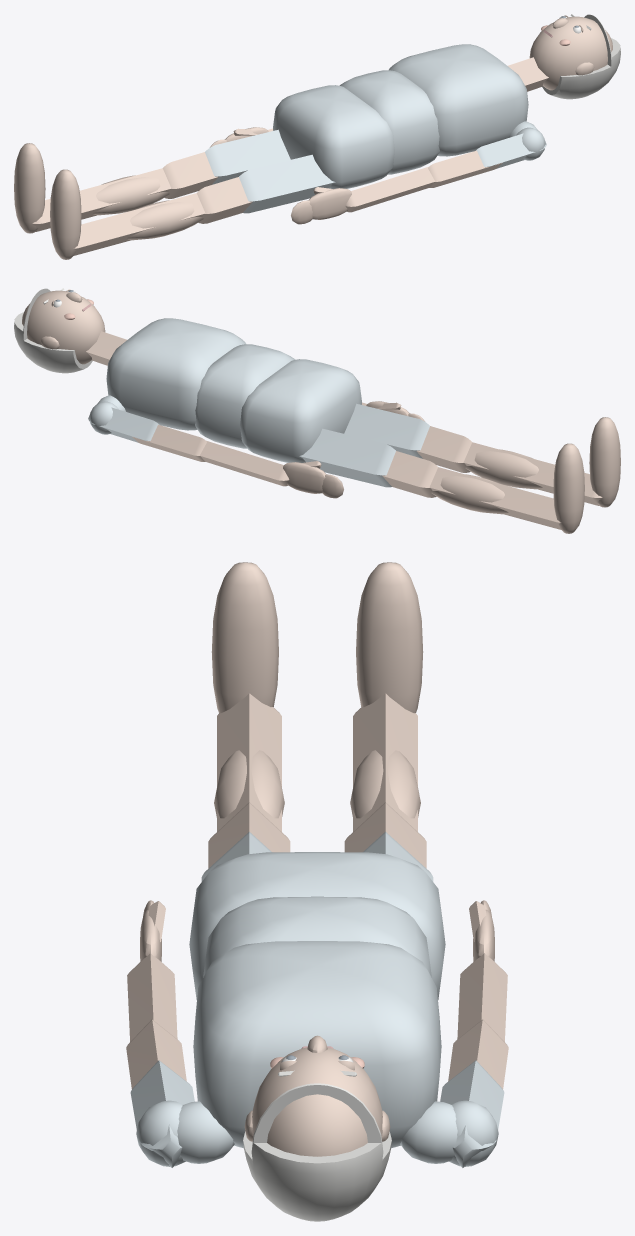
Rendered from patient_elderly.glb.
3 views of the same model, one above another, from view 1: azimuth 30°, elevation 25°; view 2: azimuth 150°, elevation 25°; view 3: azimuth 270°, elevation 25° (orthographic). The views are drawn at different scales.
Visible parts, largest first — view 1: chest, pelvis, head, abdomen, thigh_l, thigh_r, shin_l, upper_arm_l, shin_r, foot_l, foot_r, forearm_l (+3 smaller); view 2: chest, pelvis, head, abdomen, thigh_r, thigh_l, shin_r, upper_arm_r, shin_l, foot_r, foot_l, forearm_r (+3 smaller); view 3: chest, head, pelvis, abdomen, upper_arm_l, upper_arm_r, foot_l, foot_r, shin_l, shin_r, forearm_l, forearm_r (+4 smaller).
Part boxes in pixels (x1=…): chest: x1=389, y1=44, x2=528, y2=156; pelvis: x1=273, y1=85, x2=394, y2=188; head: x1=529, y1=14, x2=620, y2=99; abdomen: x1=339, y1=70, x2=439, y2=174; thigh_l: x1=197, y1=154, x2=335, y2=223; thigh_r: x1=162, y1=129, x2=290, y2=198; shin_l: x1=73, y1=193, x2=205, y2=255; upper_arm_l: x1=428, y1=121, x2=546, y2=187; shin_r: x1=32, y1=168, x2=171, y2=231; foot_l: x1=50, y1=169, x2=81, y2=259; foot_r: x1=14, y1=143, x2=45, y2=233; forearm_l: x1=345, y1=166, x2=434, y2=212; chest: x1=106, y1=318, x2=245, y2=430; pelvis: x1=240, y1=359, x2=361, y2=462; head: x1=14, y1=288, x2=105, y2=373; abdomen: x1=195, y1=344, x2=295, y2=448; thigh_r: x1=299, y1=428, x2=437, y2=497; thigh_l: x1=344, y1=403, x2=472, y2=472; shin_r: x1=429, y1=467, x2=561, y2=529; upper_arm_r: x1=88, y1=395, x2=206, y2=461; shin_l: x1=463, y1=442, x2=602, y2=505; foot_r: x1=553, y1=443, x2=584, y2=533; foot_l: x1=589, y1=417, x2=620, y2=507; forearm_r: x1=200, y1=440, x2=289, y2=486; chest: x1=193, y1=941, x2=441, y2=1148; head: x1=243, y1=1035, x2=391, y2=1221; pelvis: x1=189, y1=852, x2=445, y2=999; abdomen: x1=203, y1=896, x2=431, y2=977; upper_arm_l: x1=126, y1=1019, x2=234, y2=1167; upper_arm_r: x1=400, y1=1019, x2=508, y2=1167; foot_l: x1=211, y1=562, x2=278, y2=713; foot_r: x1=356, y1=562, x2=423, y2=713; shin_l: x1=214, y1=693, x2=284, y2=831; shin_r: x1=350, y1=693, x2=420, y2=831; forearm_l: x1=127, y1=953, x2=177, y2=1041; forearm_r: x1=457, y1=953, x2=507, y2=1041.
Size of the model in its own units: 1.68 by 0.2809 by 0.4779.
